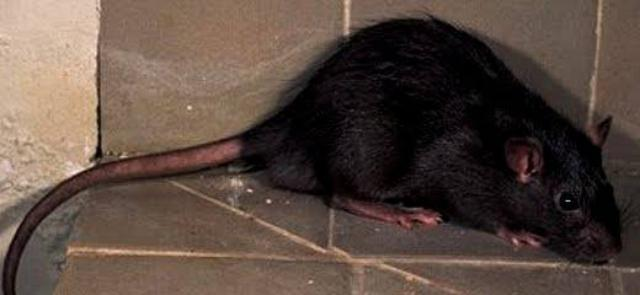rat: (112, 9, 636, 269)
